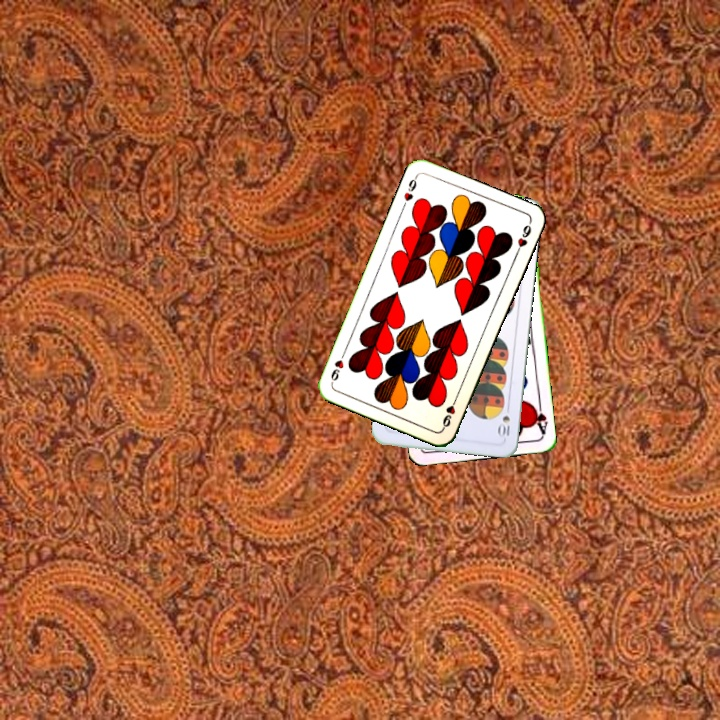H9: (438, 392, 460, 431), (400, 172, 420, 204)
HA: (528, 396, 550, 437)
S10: (495, 401, 512, 441)
